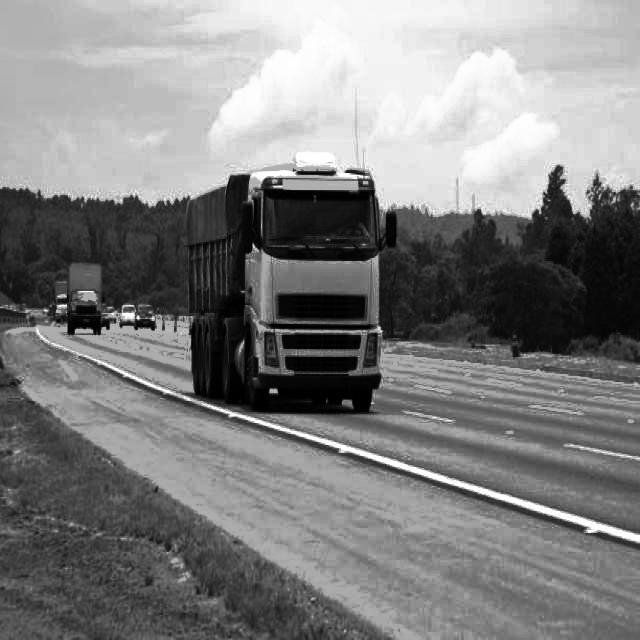HCV: (170, 146, 428, 438)
